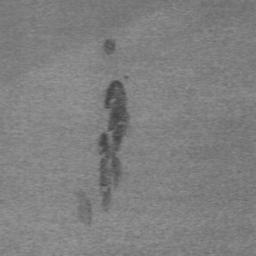Iron scale compression: (98, 80, 129, 213), (81, 193, 91, 224), (103, 39, 116, 56)
